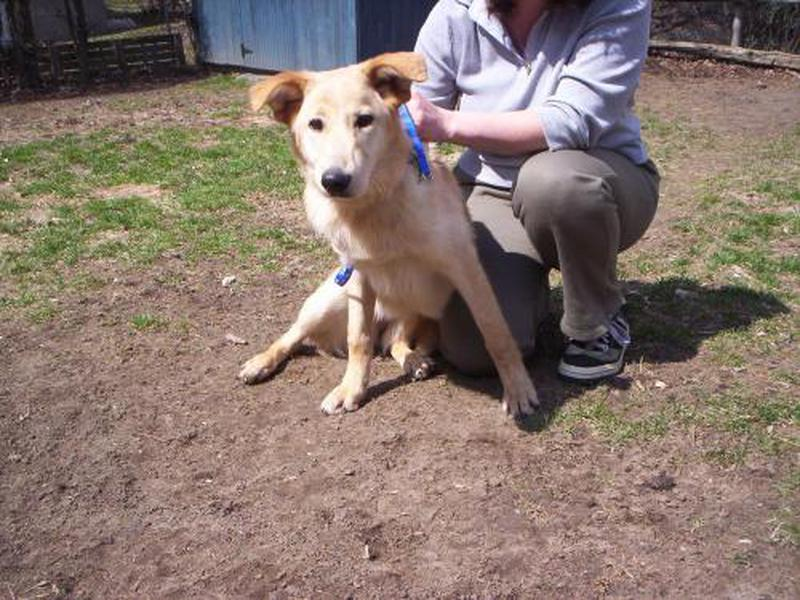dog: (235, 49, 548, 440)
